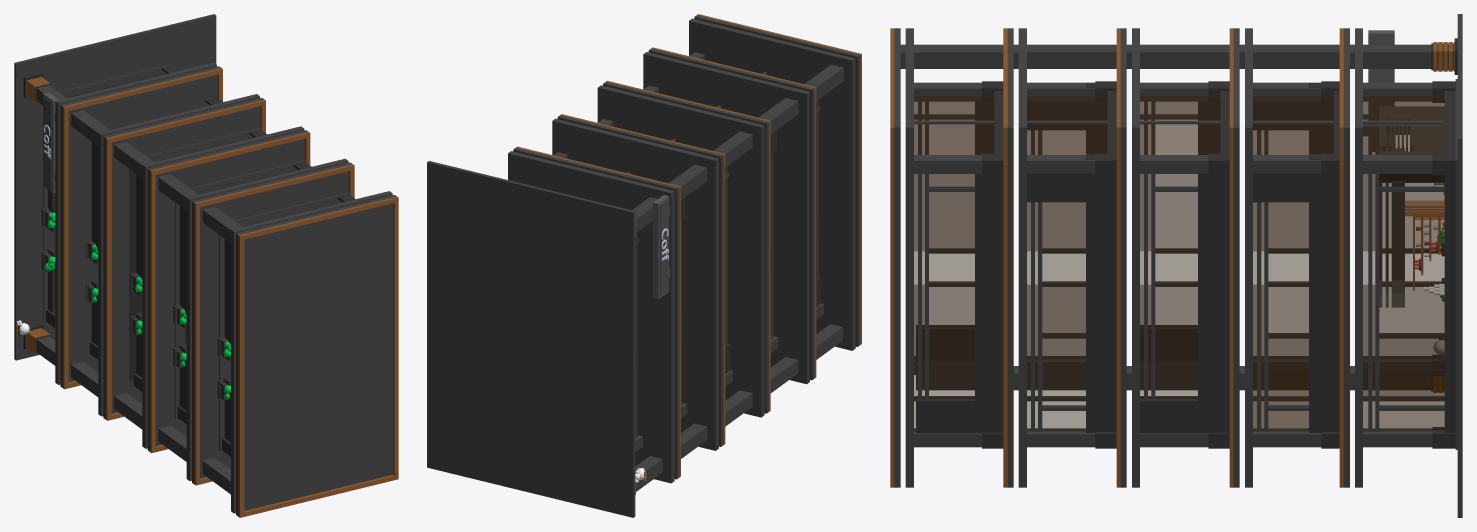
File: building.obj
3 views of the same model, side by side, from view 1: azimuth 30°, elevation 25°; view 2: azimuth 150°, elevation 25°; view 3: azimuth 270°, elevation 25° (orthographic). The views are drawn at different scales.
Parts seen in each view (by area): view 1: group_0_4539717, group_0_9526575, group_0_3552051, group_0_3158064, group_0_4210752, group_0_5329233, group_0_55124, group_0_6184542; view 2: group_0_4539717, group_0_9526575, group_0_-1036838400, group_0_6184542, group_0_5329233, group_0_3552051; view 3: group_0_4539717, group_0_-1036838400, group_0_3552051, group_0_9526575, group_0_4342338, group_0_6184542.
Boxes of the visible parts, box(x1,y1,x2,y2) form: group_0_4539717: box(14, 14, 396, 516); group_0_9526575: box(26, 68, 398, 517); group_0_3552051: box(46, 65, 355, 456); group_0_3158064: box(23, 73, 186, 380); group_0_4210752: box(41, 208, 228, 400); group_0_5329233: box(43, 96, 51, 190); group_0_55124: box(44, 212, 230, 393); group_0_6184542: box(43, 92, 58, 193); group_0_4539717: box(427, 15, 860, 517); group_0_9526575: box(516, 14, 861, 494); group_0_-1036838400: box(613, 59, 819, 435); group_0_6184542: box(653, 195, 669, 299); group_0_5329233: box(660, 199, 668, 296); group_0_3552051: box(681, 130, 820, 373); group_0_4539717: box(894, 14, 1462, 517); group_0_-1036838400: box(914, 94, 1444, 430); group_0_3552051: box(916, 81, 1455, 448); group_0_9526575: box(890, 28, 1454, 487); group_0_4342338: box(1379, 106, 1444, 307); group_0_6184542: box(1363, 30, 1394, 151).
Bounding box in the file's own units: 222 × 307 × 420.
